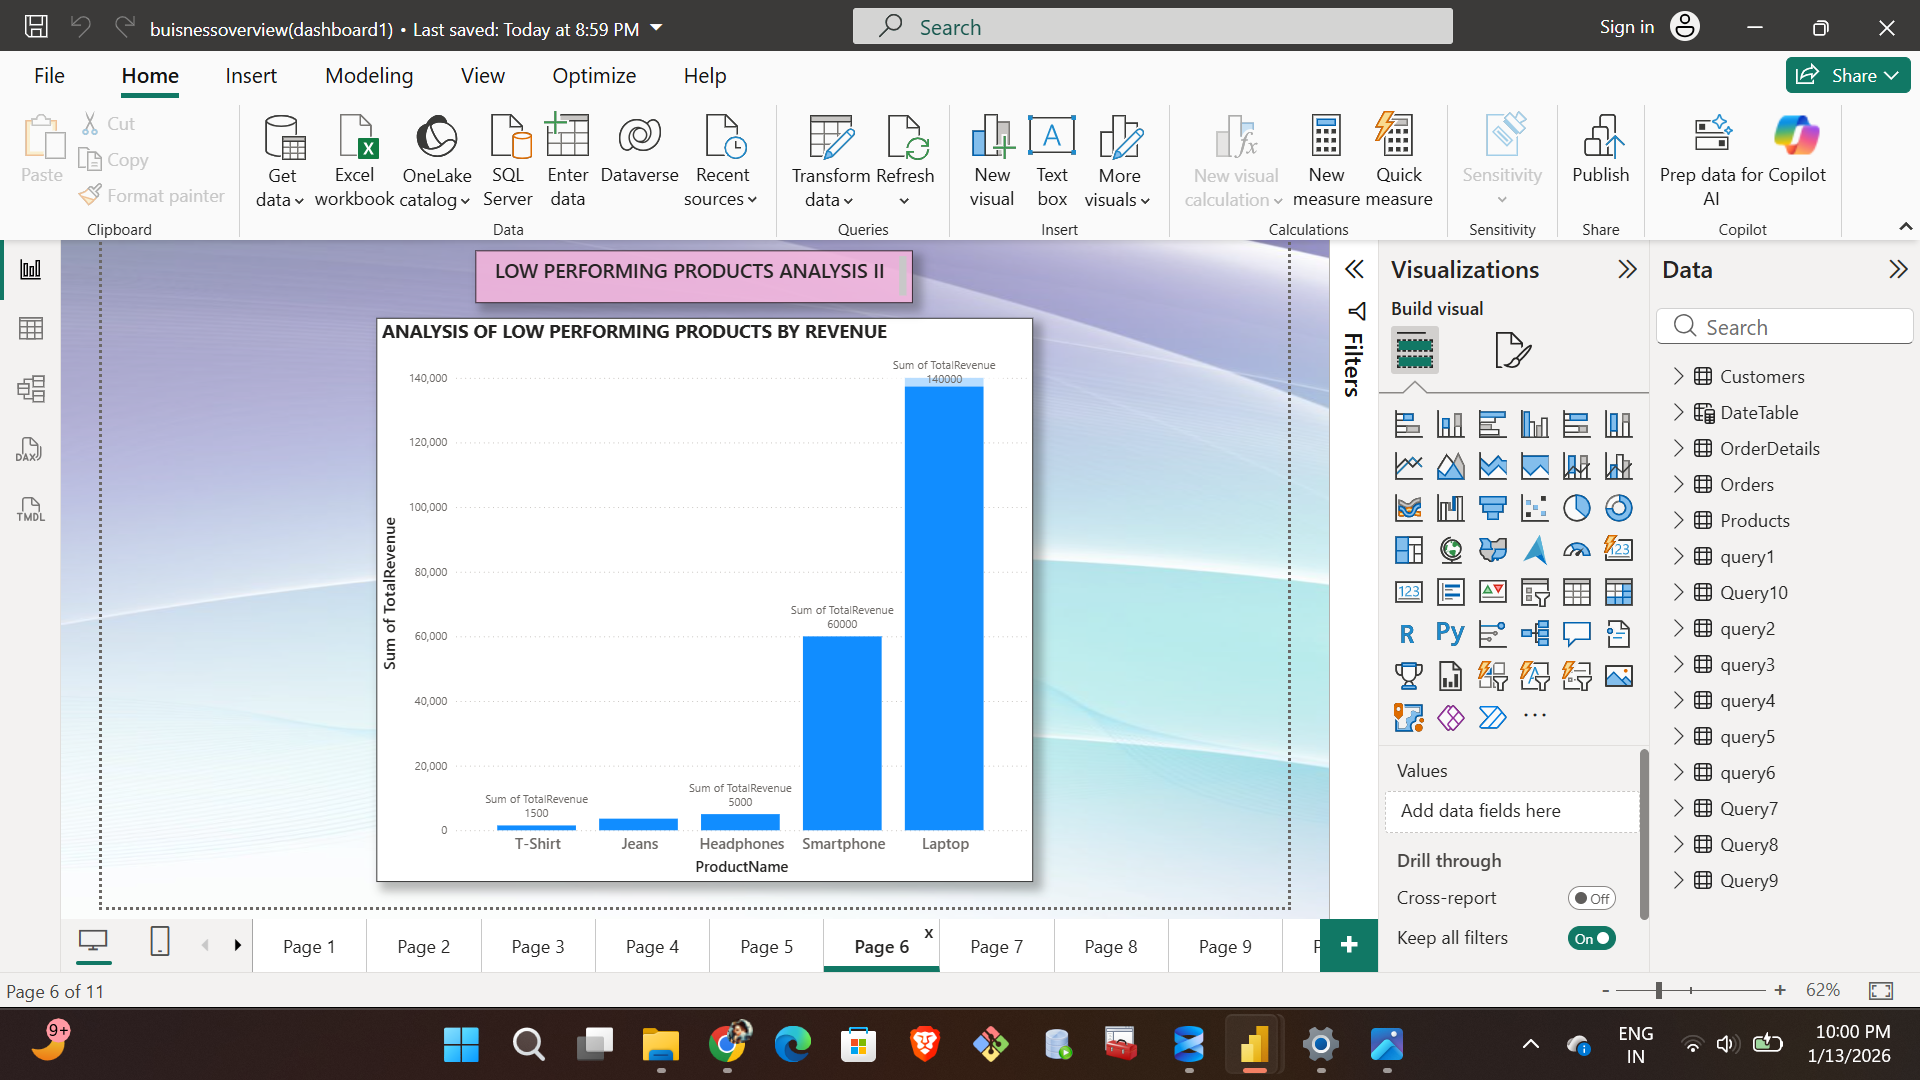

The dashboard page shown, as its layout file describes it:
{"tool":"powerbi","page":{"name":"Page 6","canvas":[1280,720],"ordinal":5},"visuals":[{"type":"lineClusteredColumnComboChart","title":"ANALYSIS OF LOW PERFORMING PRODUCTS BY REVENUE ","fields":{"Y":["Sum(query5.TotalRevenue)"],"Category":["query5.ProductName"]},"box":[296.7,85,708.3,608.3],"z":0},{"type":"textbox","box":[403.3,11.7,471.7,56.7],"z":1}]}

Visuals, with their boxes on the page's 1280x720 design canvas (x1, y1, x2, y2). These are canvas units, not pixel positions in the 1920x1080 screenshot, which may show the page scaled, cropped or inside an application window:
"ANALYSIS OF LOW PERFORMING PRODUCTS BY REVENUE " lineClusteredColumnComboChart: x1=297 y1=85 x2=1005 y2=693
textbox: x1=403 y1=12 x2=875 y2=68
